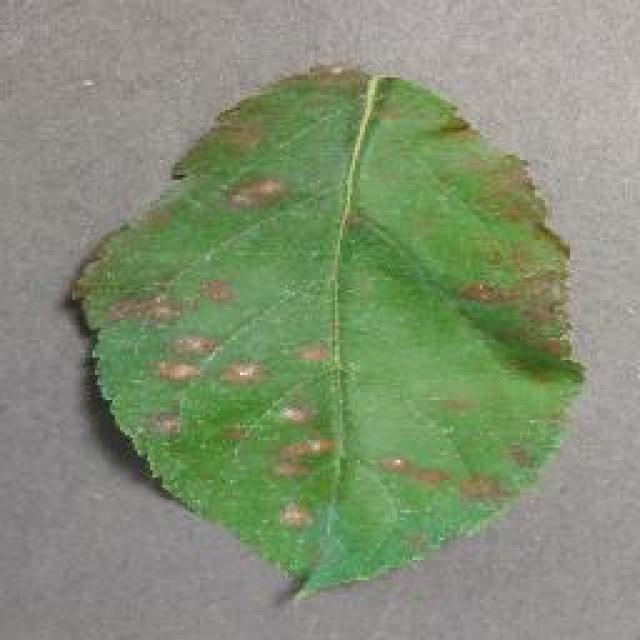apple scab disease: (68, 60, 588, 600)
